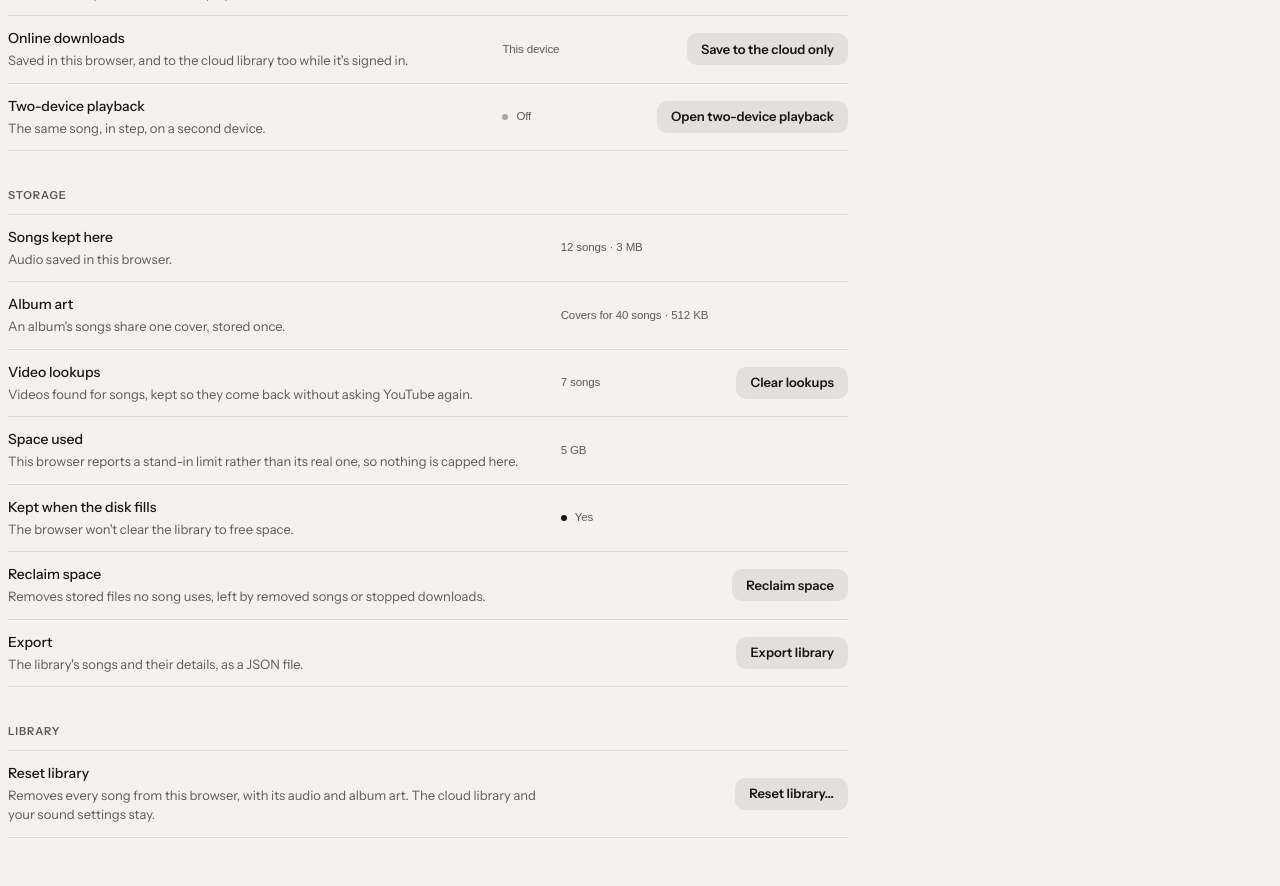
it: SettingsView › resets the library only after asking, and says when it is done
Later steps or results of the test are not shown.
(page scrolled)
Click the button "Reset library…" at [792, 794], box [735,778,848,810]
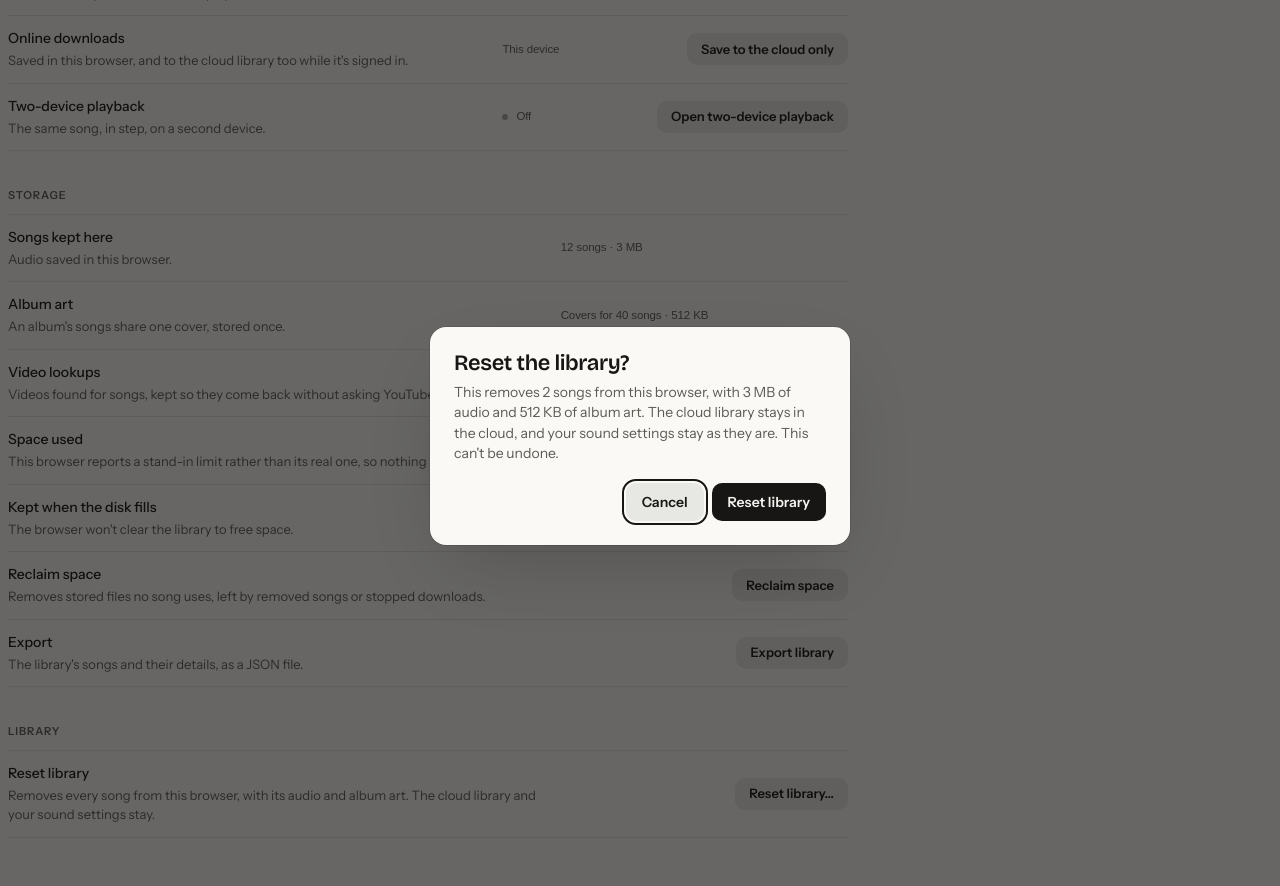
Check: the text "This removes 2 songs from this browser, with 3 MB of audio and 512 KB of album art." is shown, box [454,383,808,462]
